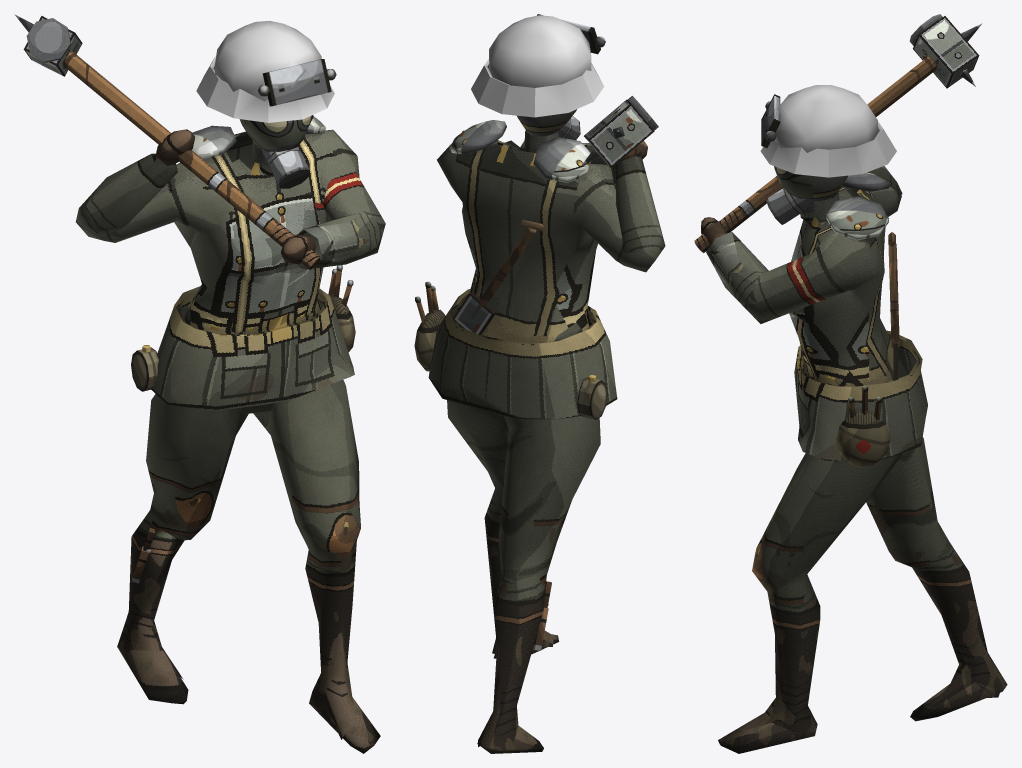
File: shock-trooper.glb
3 renders of one model, left to right at view 1: azimuth 30°, elevation 25°; view 2: azimuth 150°, elevation 25°; view 3: azimuth 270°, elevation 25°, orthographic. The views are drawn at different scales.
Visible parts, largest first — view 1: Body, Accent, Weapon, Helmet, Hip, Chest; view 2: Body, Accent, Chest, Hip, Weapon, Back, Helmet; view 3: Body, Accent, Weapon, Helmet, Hip, Chest, Back.
Boxes of the visible parts, left/top/right/bottom form: Body: left=76, top=129, right=385, bottom=753; Accent: left=196, top=20, right=334, bottom=122; Weapon: left=14, top=14, right=320, bottom=269; Helmet: left=239, top=59, right=336, bottom=188; Hip: left=131, top=265, right=355, bottom=583; Chest: left=192, top=116, right=325, bottom=160; Body: left=428, top=130, right=665, bottom=753; Accent: left=471, top=15, right=604, bottom=117; Chest: left=450, top=120, right=590, bottom=182; Hip: left=414, top=281, right=607, bottom=650; Weapon: left=581, top=96, right=658, bottom=167; Back: left=453, top=219, right=543, bottom=334; Helmet: left=517, top=14, right=605, bottom=140; Body: left=701, top=166, right=1007, bottom=753; Accent: left=760, top=85, right=896, bottom=177; Weapon: left=694, top=14, right=982, bottom=252; Helmet: left=761, top=94, right=847, bottom=224; Hip: left=836, top=386, right=890, bottom=467; Chest: left=826, top=172, right=889, bottom=240; Back: left=888, top=232, right=899, bottom=380.
Size of the model in its own units: 0.5033 by 1.2 by 0.5234.
7 materials, 6 textured.
